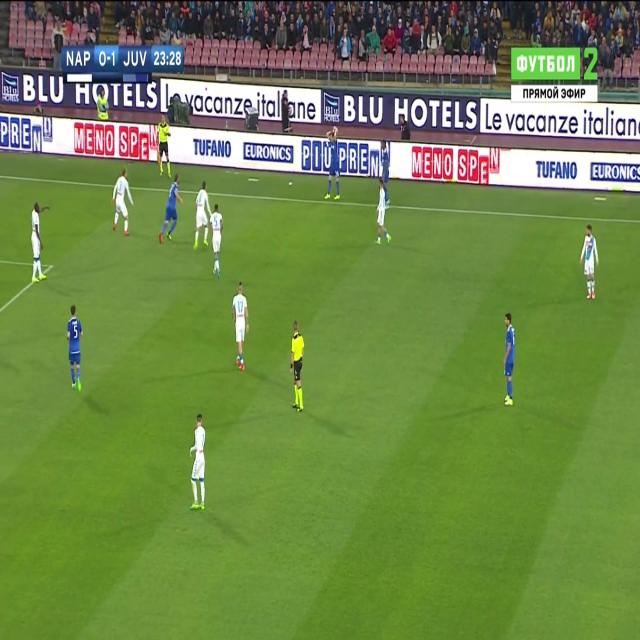Player: (158, 172, 184, 246), (188, 411, 207, 512), (29, 200, 51, 286), (500, 309, 519, 408), (578, 221, 600, 301), (232, 280, 250, 374), (66, 304, 84, 395), (111, 169, 135, 237), (190, 181, 212, 254), (372, 176, 391, 248), (209, 202, 225, 279), (324, 128, 340, 202), (378, 141, 392, 203)
Referee: (288, 318, 307, 415), (156, 112, 173, 179)
